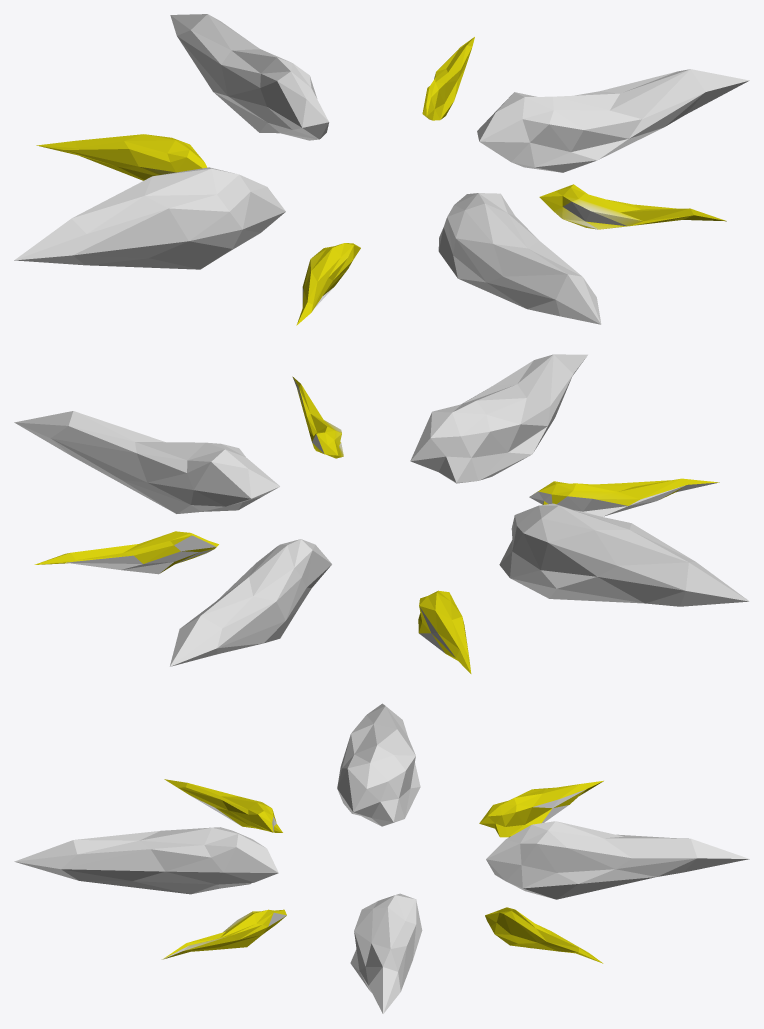
Rendered from SM_ky_rockRing.fbx.
The picture shows the model from 3 angles, top to bottom: view 1: azimuth 30°, elevation 25°; view 2: azimuth 150°, elevation 25°; view 3: azimuth 270°, elevation 25°; orthographic projection. The views are drawn at different scales.
Visible parts, largest first — view 1: rockRing; view 2: rockRing; view 3: rockRing.
Part boxes in pixels (x1=…): rockRing: x1=14, y1=14, x2=749, y2=325; rockRing: x1=14, y1=354, x2=749, y2=673; rockRing: x1=14, y1=703, x2=749, y2=1013.
Size of the model in its own units: 11.48 by 1.32 by 11.48.
